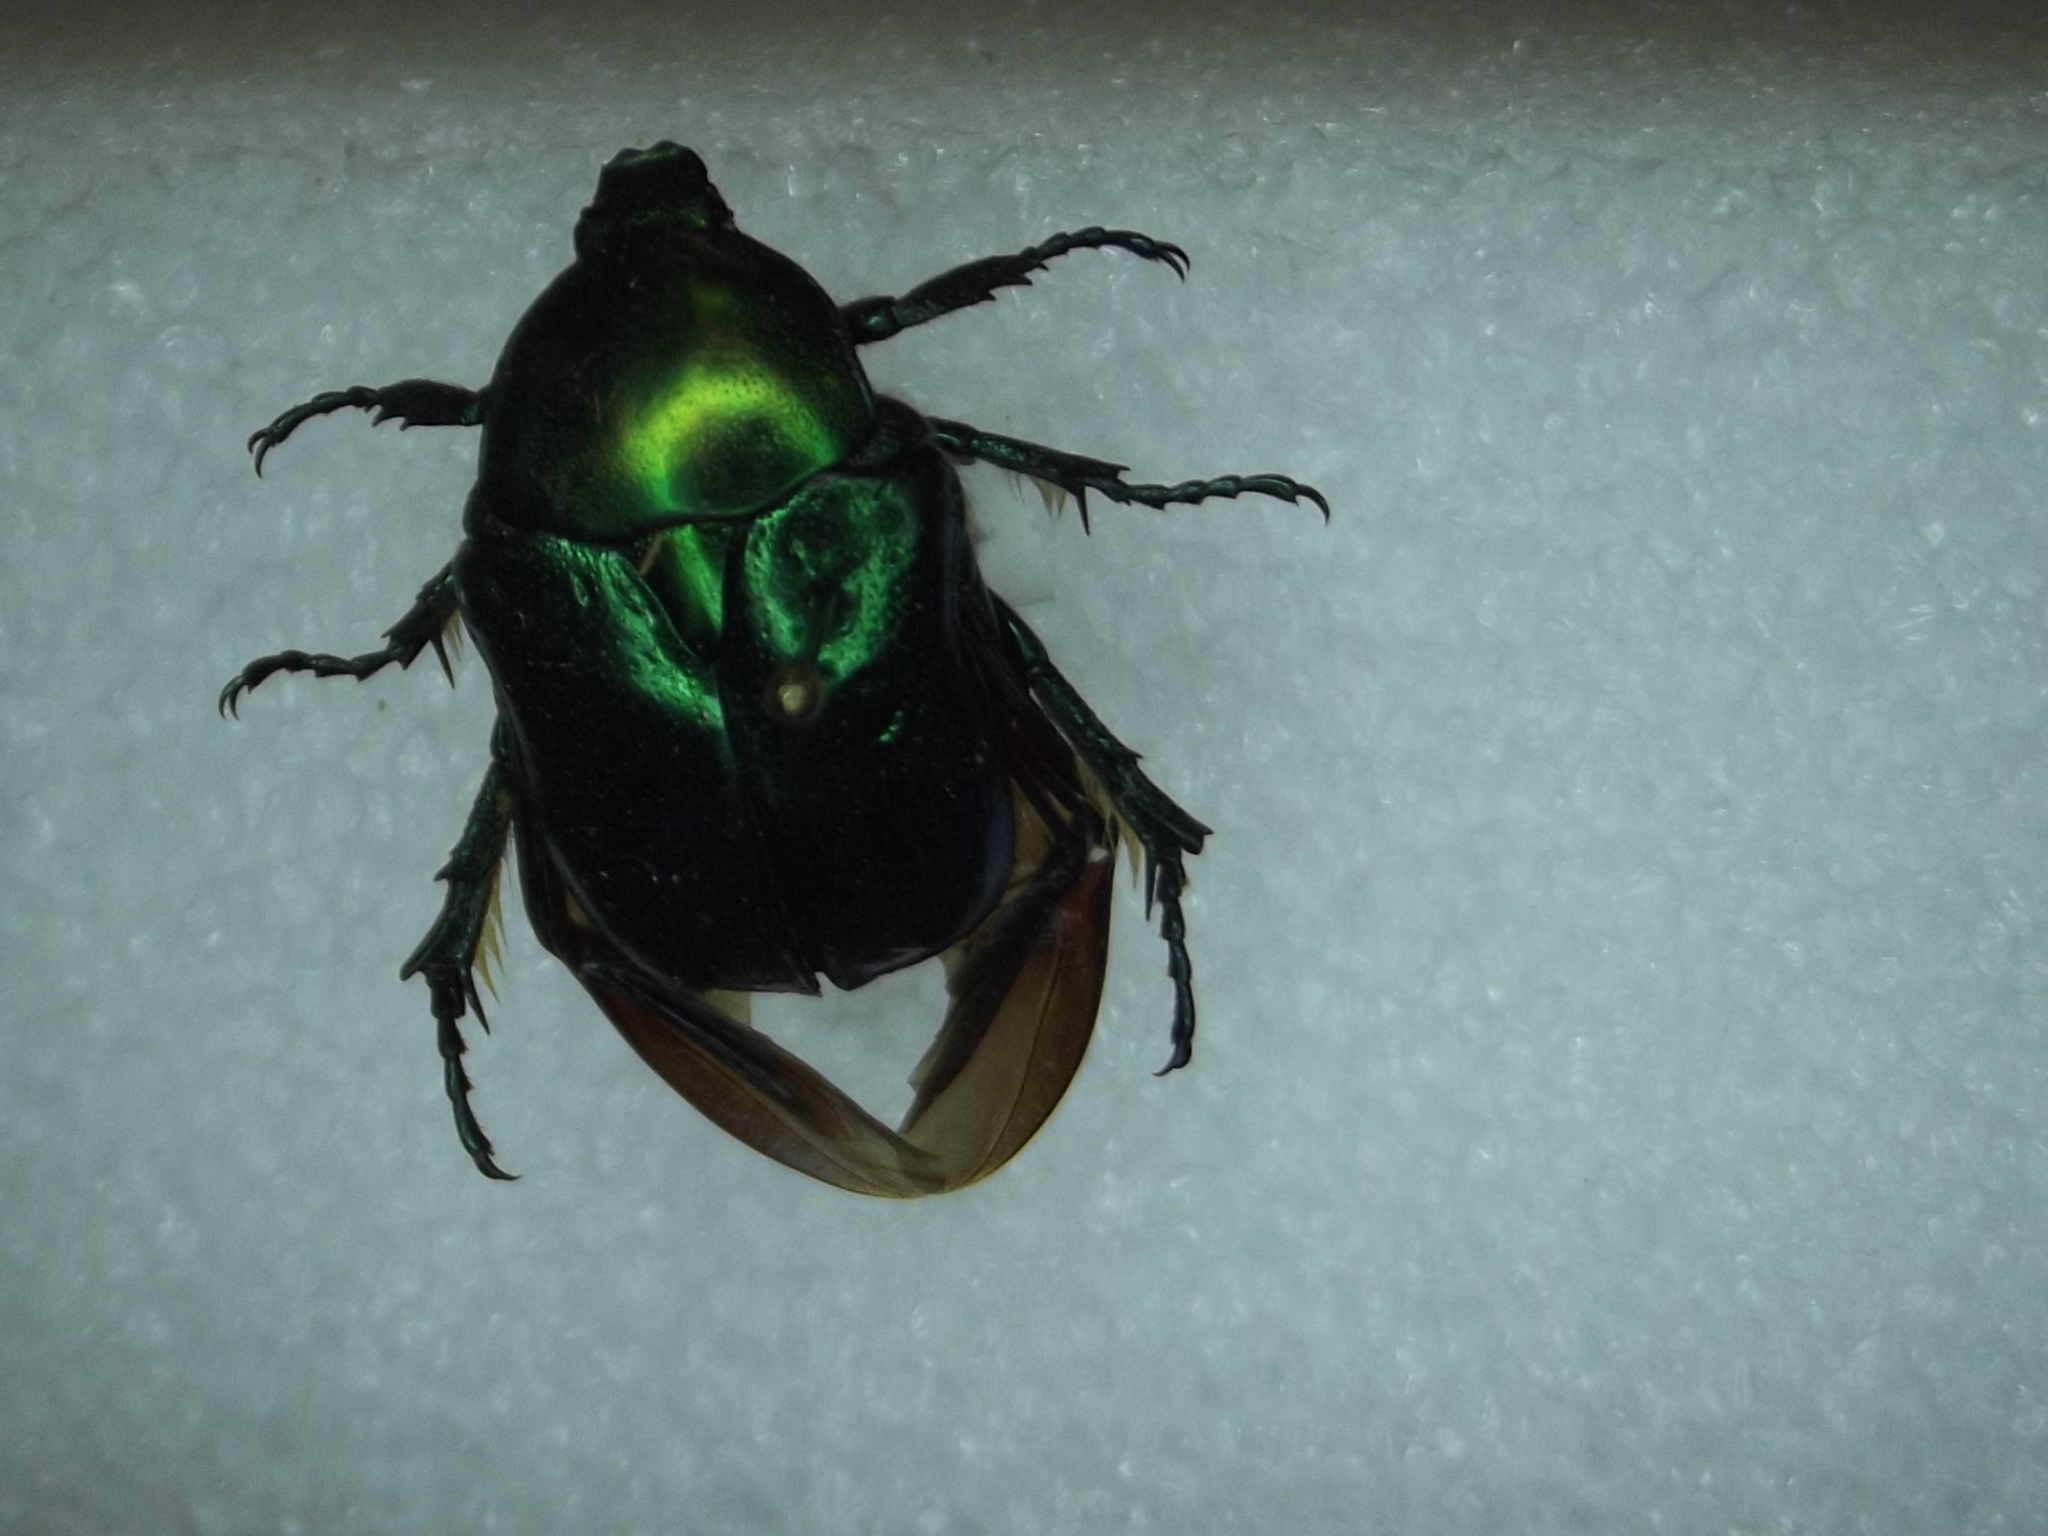Protaetia_angustata_angustata: (203, 113, 1342, 1204)
